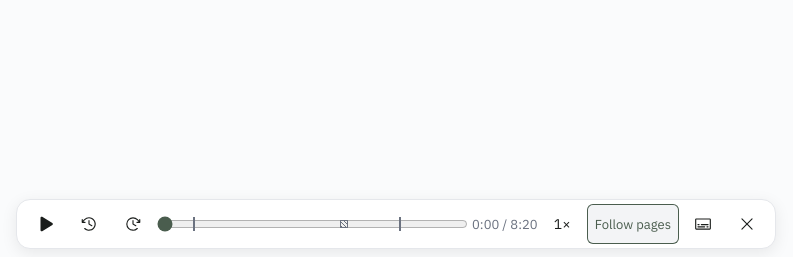
ReplayBar › speed menu sets the rate
Click the button named "Speed" at {"x": 562, "y": 224}, box [542,204,583,244]
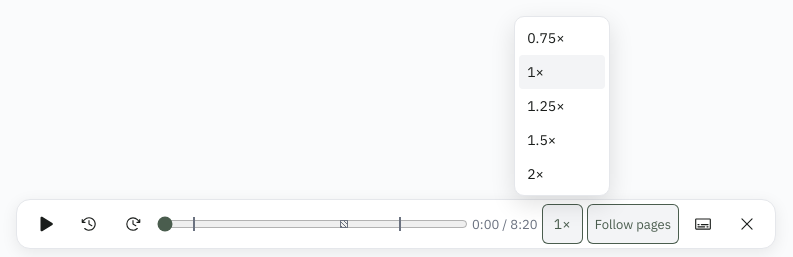
Click the menu item "1.5×" at {"x": 562, "y": 140}, box [519,123,605,157]
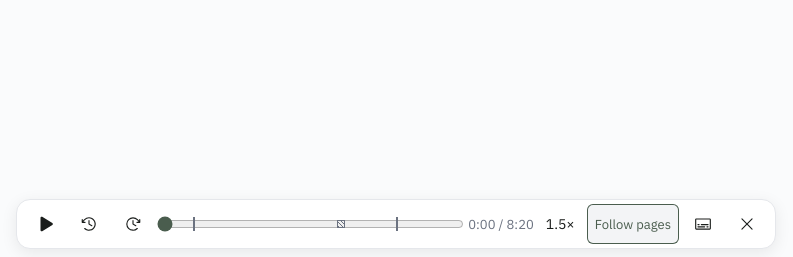
Expected: the menu is gone
Expected: the button named "Speed" reads "1.5×", [538,204,583,244]
